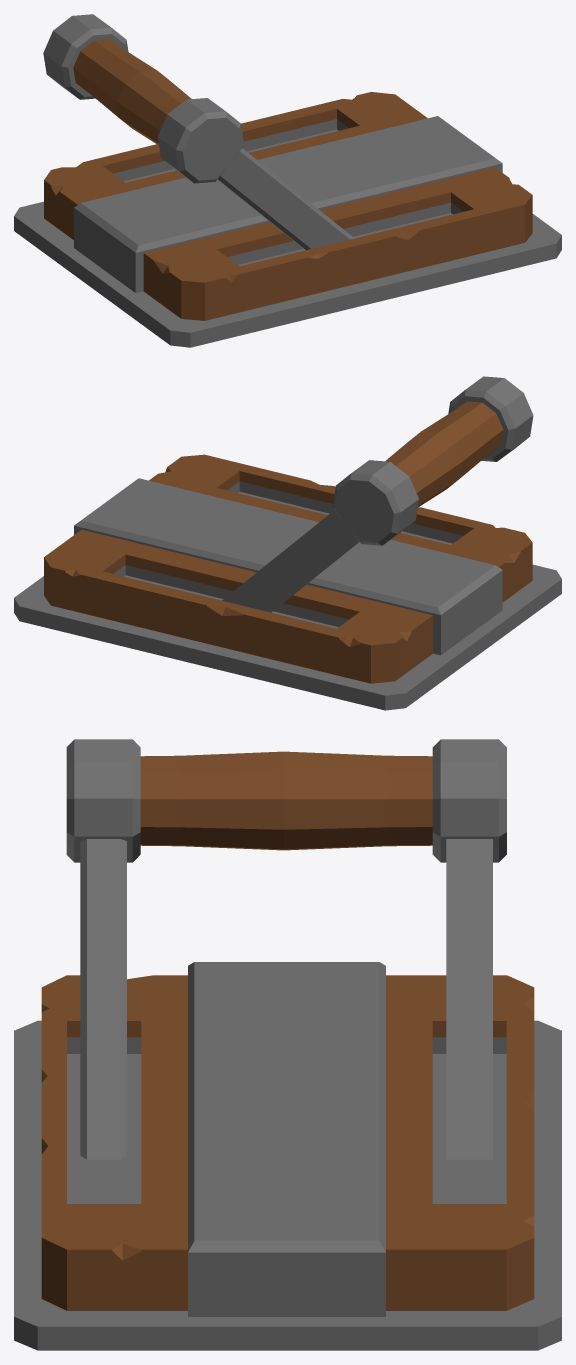
File: lever1.fbx
The picture shows the model from 3 angles, top to bottom: view 1: azimuth 30°, elevation 25°; view 2: azimuth 150°, elevation 25°; view 3: azimuth 270°, elevation 25°; orthographic projection. The views are drawn at different scales.
Parts seen in each view (by area): view 1: Cylinder; view 2: Cylinder; view 3: Cylinder.
Part boxes in pixels (x1,y1,x2,y2): Cylinder: (14,14,561,347); Cylinder: (14,376,561,710); Cylinder: (14,739,561,1350).
Bounding box in the file's own units: 164 × 85.43 × 124.
